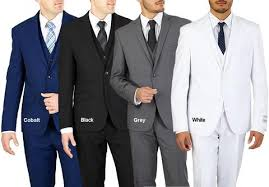F_M_suit jacket: (59, 10, 141, 134)
F_tie: (42, 19, 60, 55), (211, 21, 230, 55), (93, 18, 111, 51), (145, 17, 160, 54)
